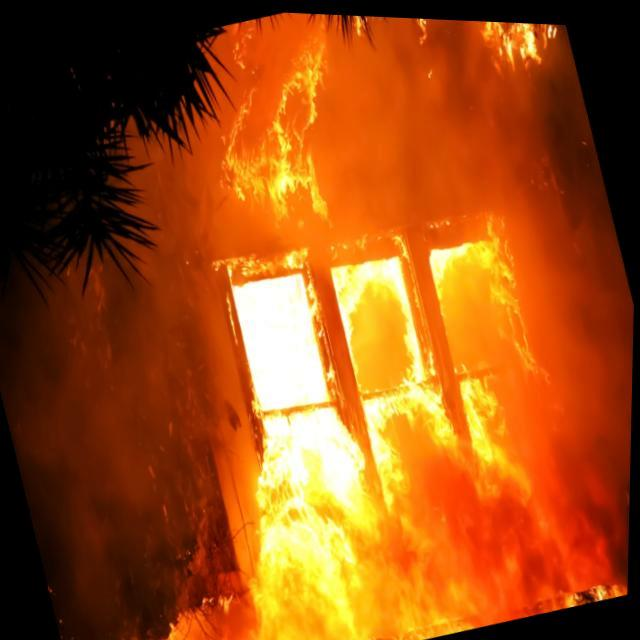fire: (174, 223, 396, 624), (318, 228, 486, 582), (304, 528, 632, 640), (192, 30, 360, 216), (410, 215, 532, 470), (476, 198, 580, 398), (344, 12, 568, 84)
